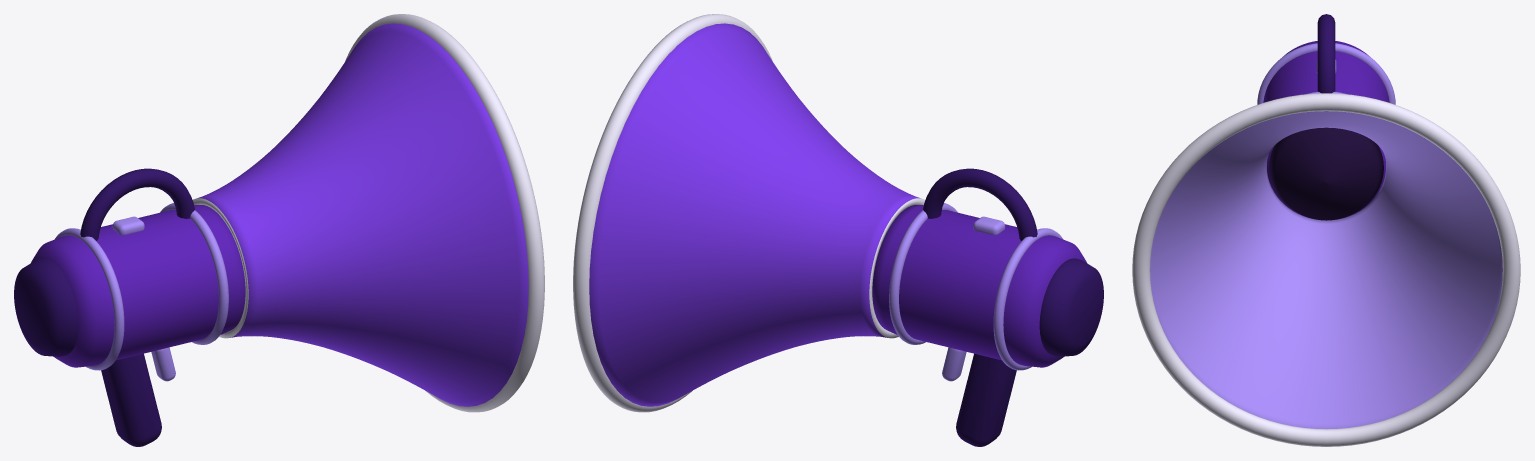
Rendered from megaphone.glb.
3 views of the same model, side by side, from view 1: azimuth 30°, elevation 25°; view 2: azimuth 150°, elevation 25°; view 3: azimuth 270°, elevation 25° (orthographic). The views are drawn at different scales.
Parts seen in each view (by area): view 1: Bell, Body, Torus, Grip, Cap, Button; view 2: Bell, Body, Torus, Grip, Cap, Button; view 3: Bell, Torus, Driver, Body, Grip, Button.
Part boxes in pixels (x1,y1,x2,y2): Bell: [192, 23, 528, 406]; Body: [31, 205, 245, 367]; Torus: [345, 14, 544, 412]; Grip: [80, 168, 194, 446]; Cap: [14, 258, 78, 356]; Button: [55, 203, 228, 381]; Bell: [589, 23, 925, 406]; Body: [872, 205, 1086, 367]; Torus: [573, 14, 772, 412]; Grip: [923, 168, 1037, 446]; Cap: [1039, 258, 1103, 356]; Button: [889, 203, 1062, 381]; Bell: [1150, 111, 1502, 429]; Torus: [1132, 93, 1520, 446]; Driver: [1269, 127, 1383, 220]; Body: [1263, 41, 1389, 218]; Grip: [1317, 14, 1335, 93]; Button: [1257, 43, 1395, 104].
Size of the model in its own units: 2.3 by 1.96 by 1.96.
